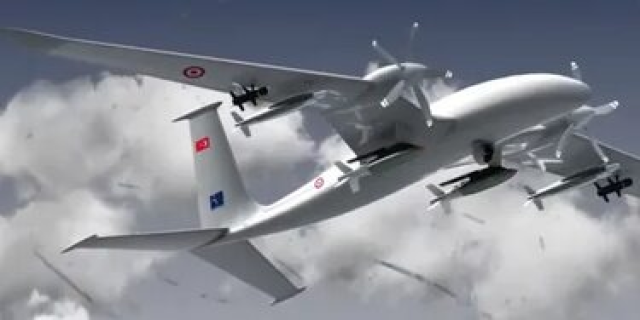military drone: (0, 21, 640, 305)
